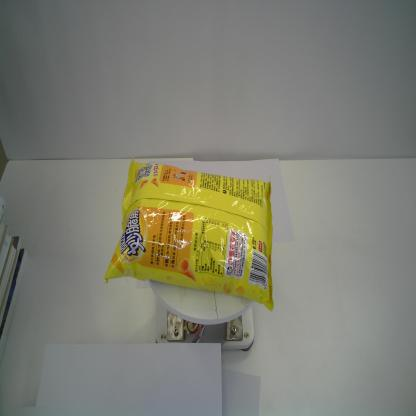Puffed Food: (102, 154, 275, 313)
